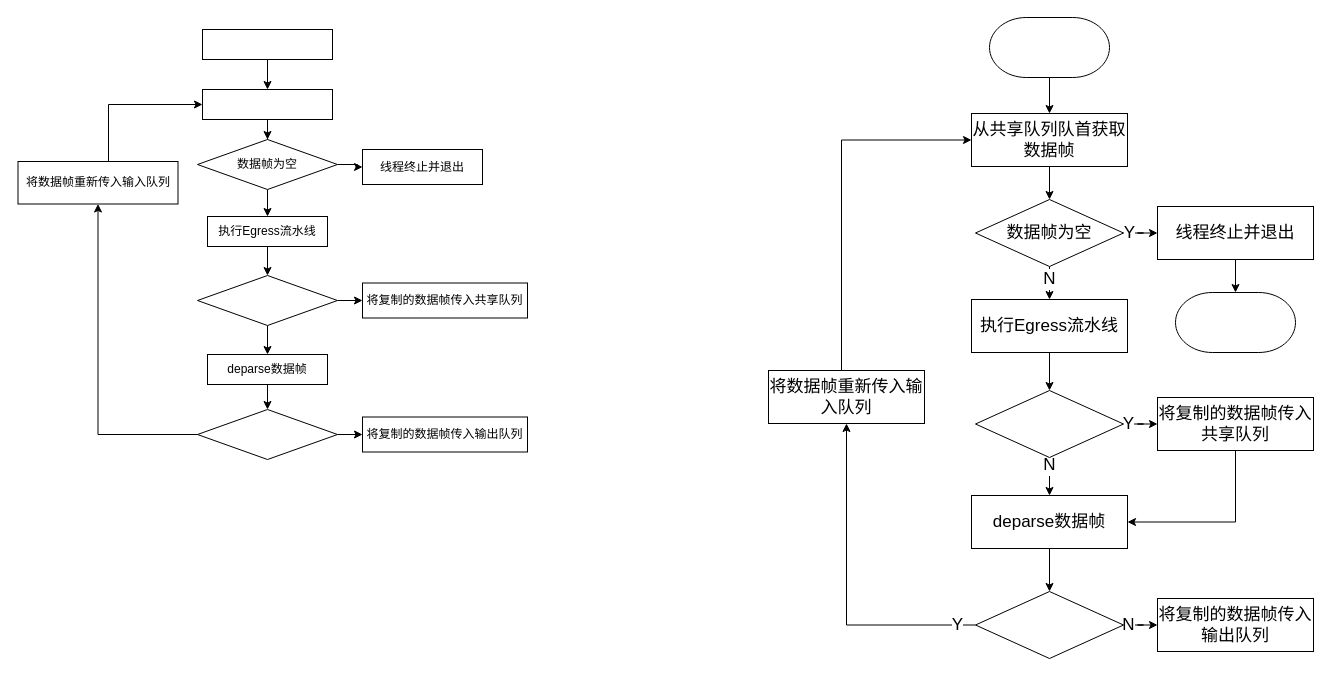
Image size: 1331x676. Some labels were removed from this diagram. Here are the shapes that lost their labels. From the top down, the centre of each, then its label:
At point (1049, 47): "输出线程启动".
At point (267, 104): "共享队列中获取数据帧".
At point (267, 300): "是否执行包复制".
At point (1235, 322): "输出线程结束".
At point (267, 434): "是否执行包循环".
At point (1049, 424): "执行帧复制".
At point (1049, 624): "执行包循环".
